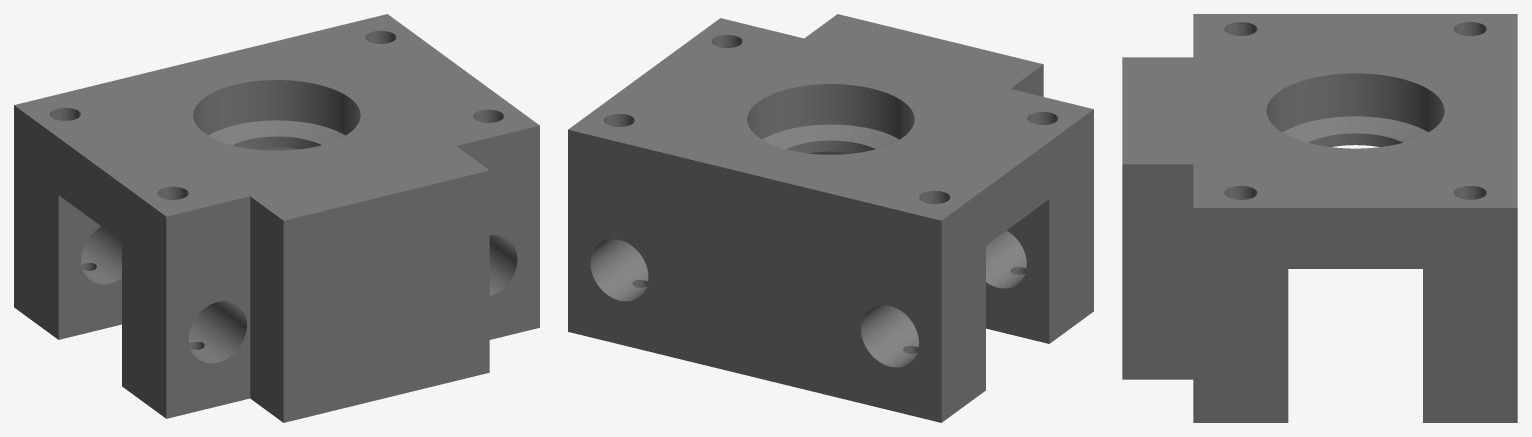
File: Lagerblock 2023-10-02 13_03_06.glb
3 views of the same model, side by side, from view 1: azimuth 30°, elevation 25°; view 2: azimuth 150°, elevation 25°; view 3: azimuth 270°, elevation 25° (orthographic). The views are drawn at different scales.
Parts seen in each view (by area): view 1: node_id3; view 2: node_id3; view 3: node_id3.
Boxes of the visible parts, left/top/right/bottom form: node_id3: left=14, top=14, right=539, bottom=422; node_id3: left=568, top=14, right=1093, bottom=422; node_id3: left=1122, top=14, right=1517, bottom=422.
Size of the model in its own units: 0.512 by 0.2648 by 0.4414.
1 material, 1 textured.
